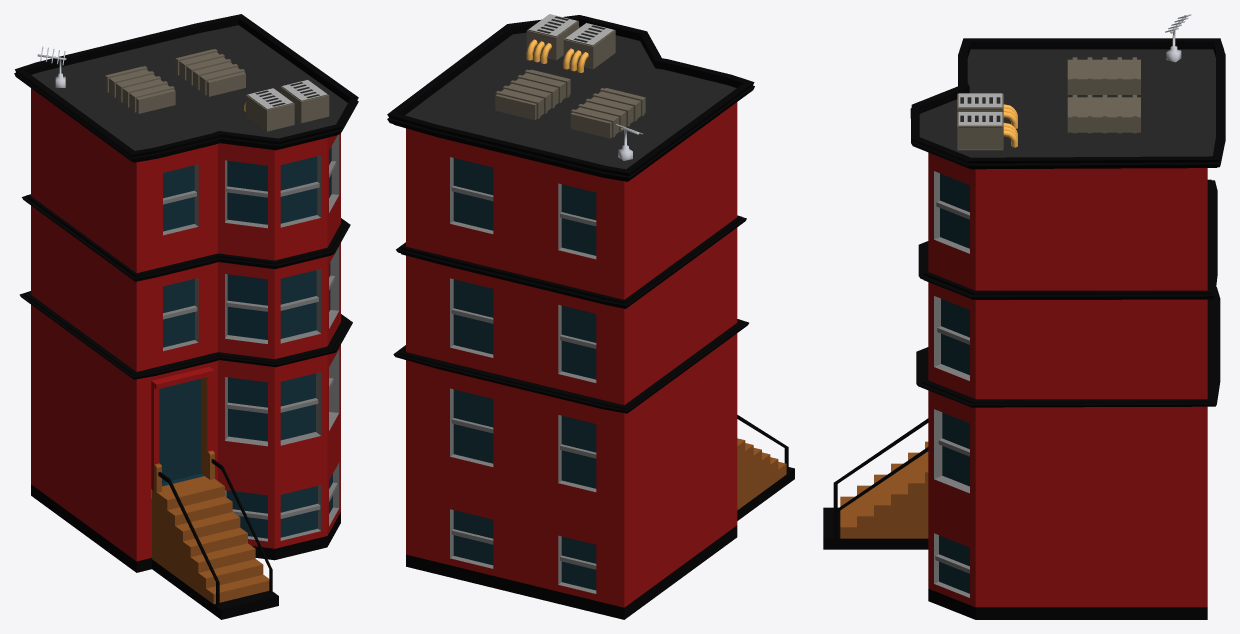
Rendered from Corner Building.fbx.
3 views of the same model, side by side, from view 1: azimuth 30°, elevation 25°; view 2: azimuth 150°, elevation 25°; view 3: azimuth 270°, elevation 25° (orthographic). The views are drawn at different scales.
Visible parts, largest first — view 1: Cube.018; view 2: Cube.018; view 3: Cube.018.
Boxes of the visible parts, x1,y1,x2,y2 form: Cube.018: (14,14,358,619); Cube.018: (387,14,794,619); Cube.018: (823,14,1225,619).
Size of the model in its own units: 468 by 884 by 646.
